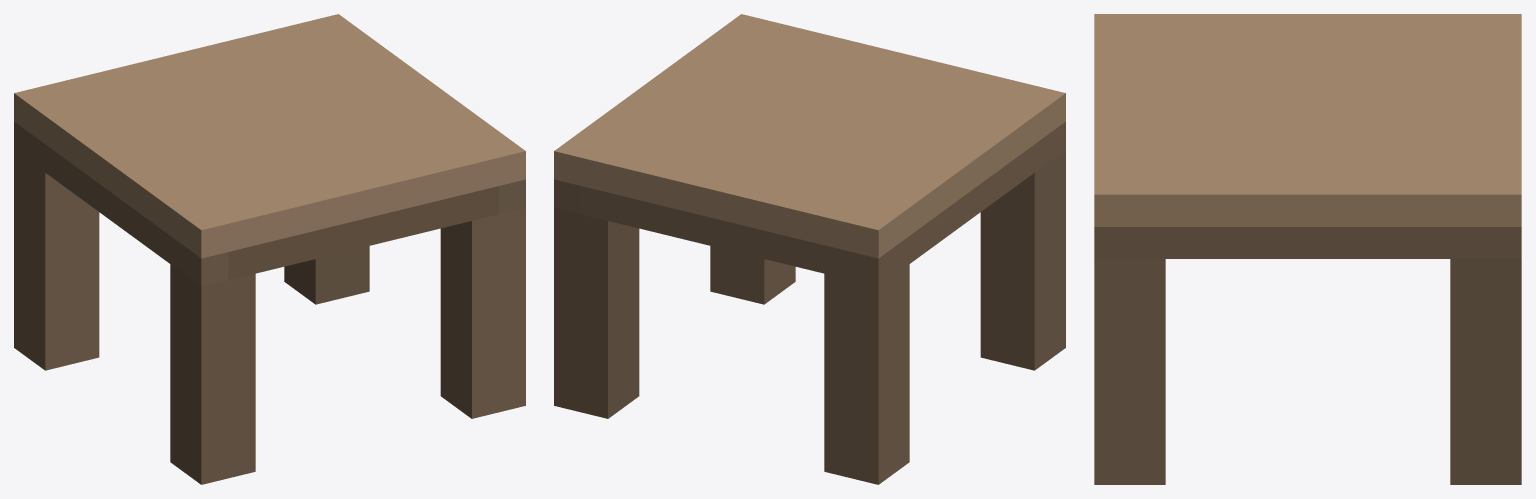
File: mesa_guarnicionero_desgastada_01.glb
3 renders of one model, left to right at view 1: azimuth 30°, elevation 25°; view 2: azimuth 150°, elevation 25°; view 3: azimuth 270°, elevation 25°, orthographic. The views are drawn at different scales.
Parts seen in each view (by area): view 1: mesa_guarnicionero_desgastada; view 2: mesa_guarnicionero_desgastada; view 3: mesa_guarnicionero_desgastada.
Boxes of the visible parts, x1,y1,x2,y2 form: mesa_guarnicionero_desgastada: (14,14,525,484); mesa_guarnicionero_desgastada: (554,14,1065,484); mesa_guarnicionero_desgastada: (1094,14,1521,484).
Bounding box in the file's own units: 1 × 0.75 × 1.
